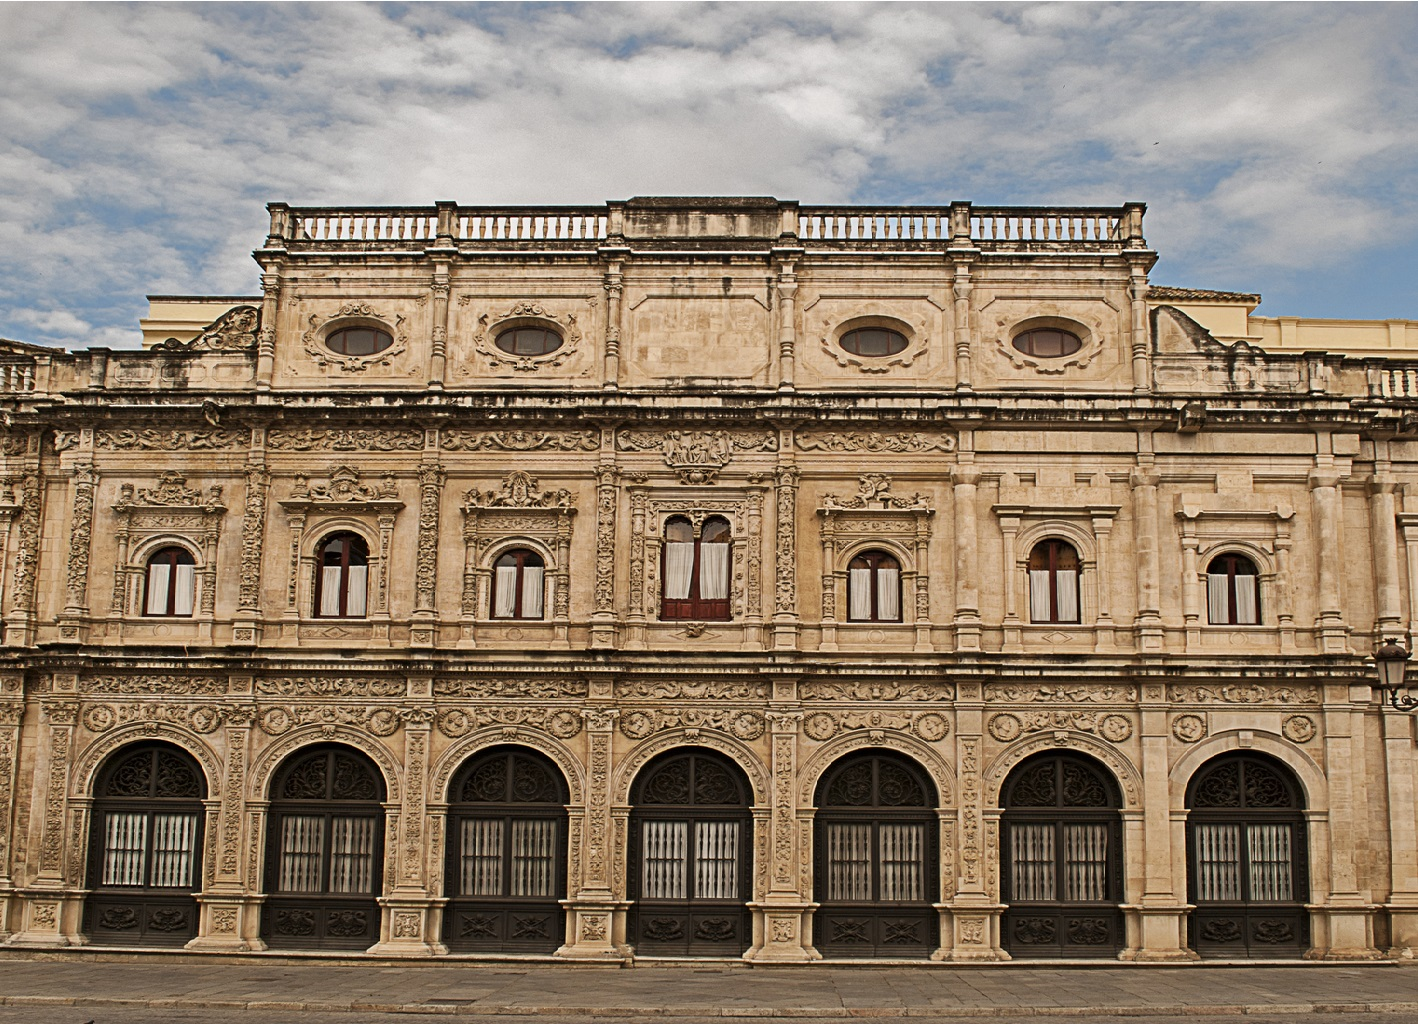arco-medio-punto: (234, 720, 410, 824), (787, 729, 967, 829), (1161, 725, 1339, 825), (969, 725, 1147, 824), (604, 725, 782, 821), (64, 717, 234, 813), (419, 718, 590, 811), (1192, 536, 1281, 590), (471, 534, 560, 587), (1013, 521, 1102, 573), (296, 519, 383, 568), (121, 533, 211, 580), (833, 538, 918, 588)
ojo-de-buey: (995, 312, 1099, 364), (310, 311, 405, 362), (821, 316, 921, 363), (479, 314, 574, 361)
